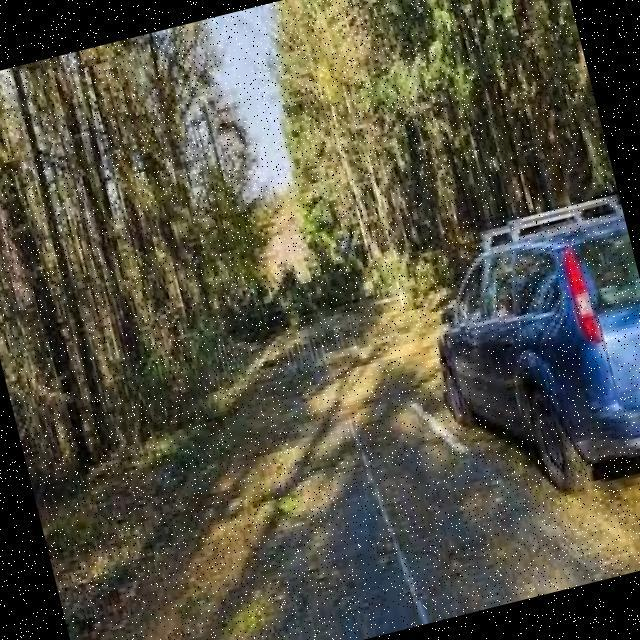fallen_object: (245, 244, 378, 344)
